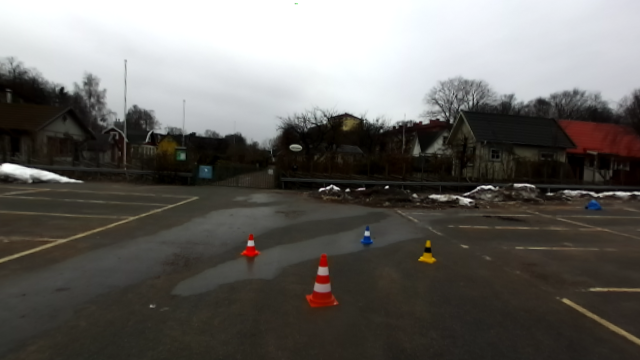blue: (359, 224, 374, 245)
orange: (239, 232, 262, 257)
orange2: (301, 250, 341, 308)
yellow: (414, 237, 439, 265)
